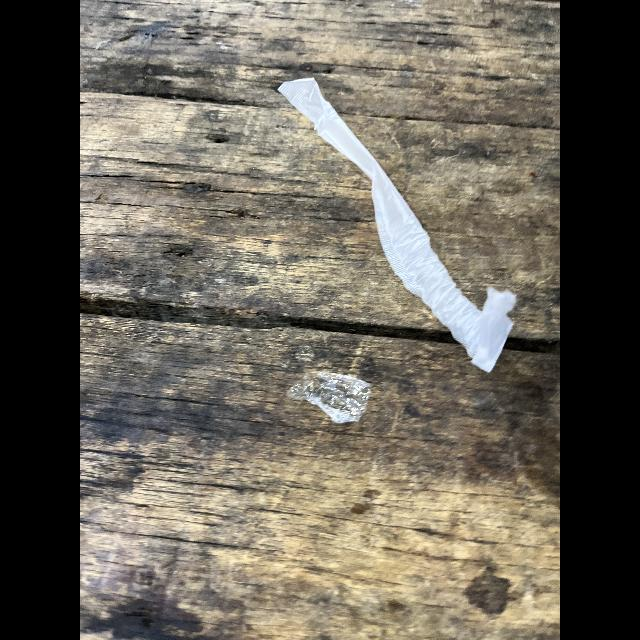scrap_plastic: (276, 70, 518, 380), (288, 361, 376, 424)
